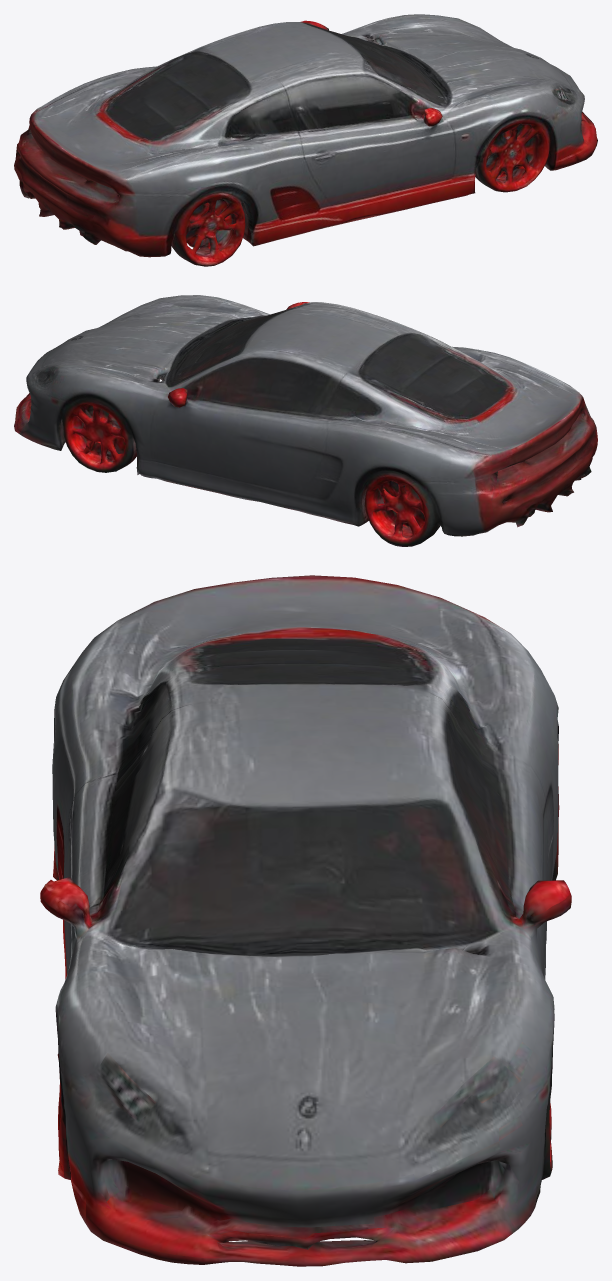
The model's file is dk-meshy-lamborghini.glb.
3 renders of one model, top to bottom at view 1: azimuth 30°, elevation 25°; view 2: azimuth 150°, elevation 25°; view 3: azimuth 270°, elevation 25°, orthographic. The views are drawn at different scales.
Bounding box in the file's own units: 2 × 0.5062 × 0.862.
1 material, 1 textured.
